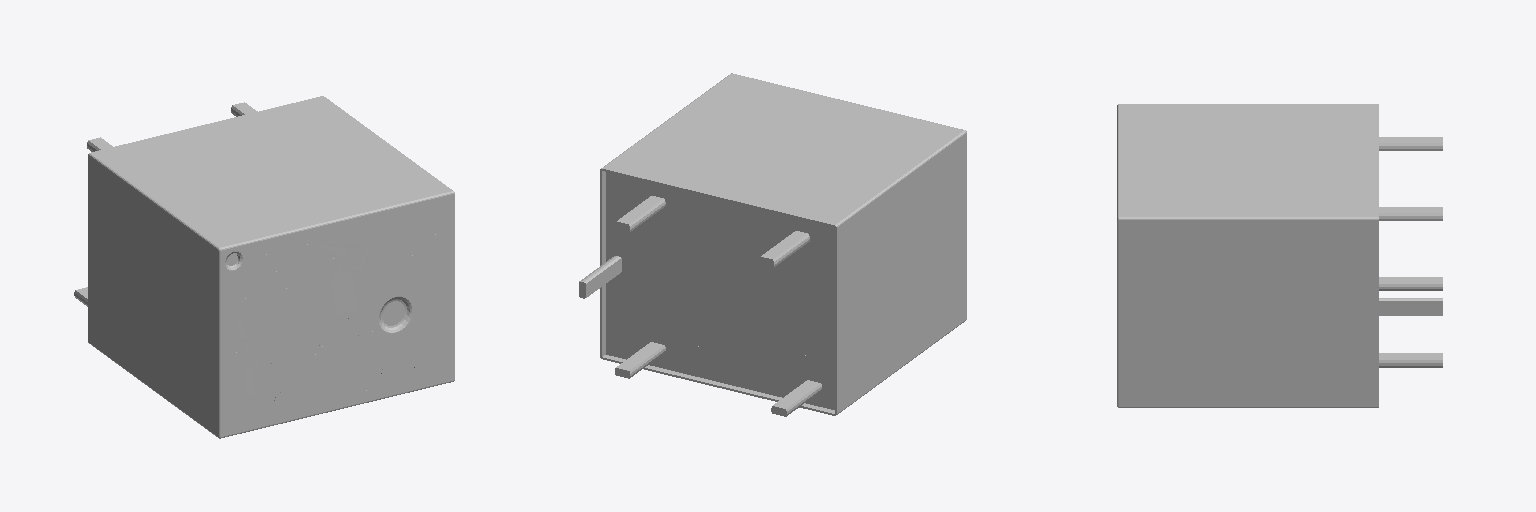
Rendered from Relay - SRA-12VDC-CL.obj.
The picture shows the model from 3 angles: view 1: azimuth 30°, elevation 25°; view 2: azimuth 150°, elevation 25°; view 3: azimuth 270°, elevation 25°; orthographic projection.
Parts seen in each view (by area): view 1: Solid1; view 2: Solid1; view 3: Solid1.
Part boxes in pixels (bbox=[...]): Solid1: bbox=[74, 96, 454, 438]; Solid1: bbox=[579, 73, 966, 416]; Solid1: bbox=[1117, 104, 1442, 407].
Bounding box in the file's own units: 15.57 × 11.99 × 18.55.